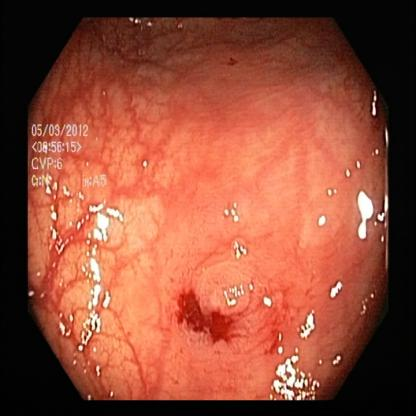Polyps: (189, 232, 274, 319)
